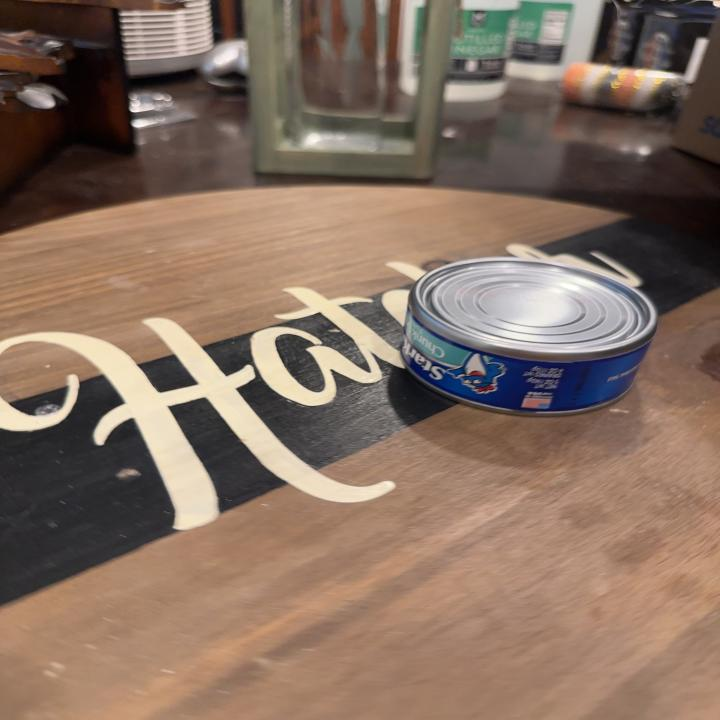Canned-Tuna: (399, 256, 659, 418)
